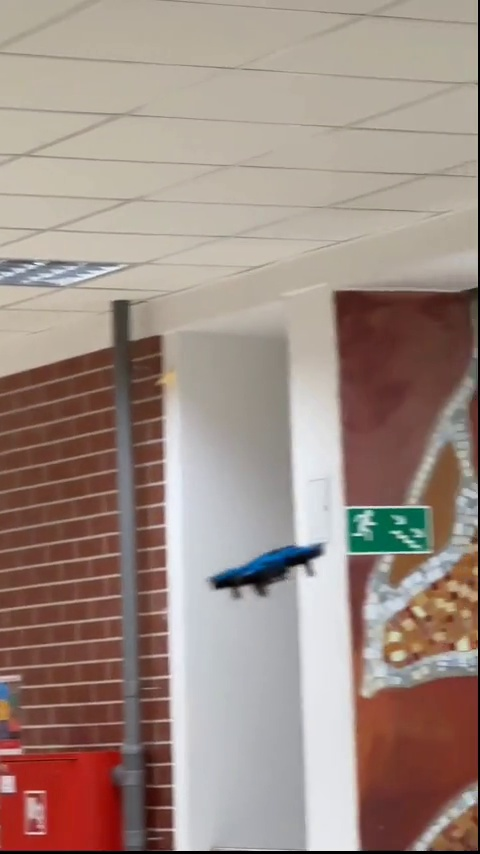drone: (211, 544, 330, 602)
